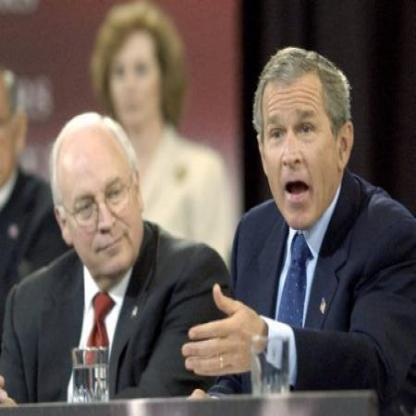face: (258, 53, 341, 232), (65, 122, 140, 281), (107, 15, 163, 128)
